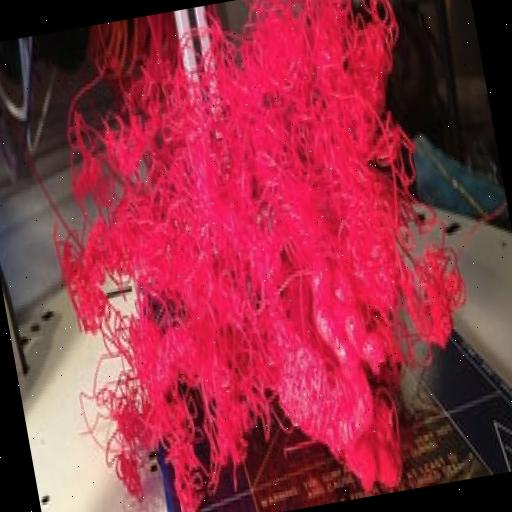spaghetti: (20, 0, 499, 512)
